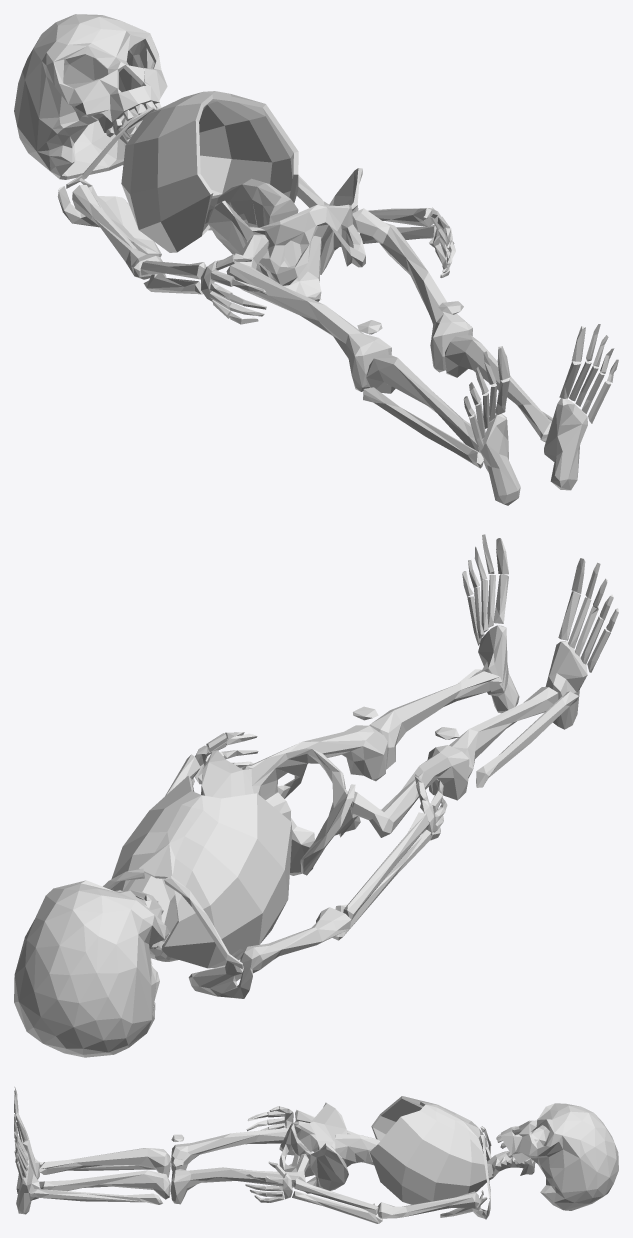
File: HWN20_Skeleton.glb
3 views of the same model, one above another, from view 1: azimuth 30°, elevation 25°; view 2: azimuth 150°, elevation 25°; view 3: azimuth 270°, elevation 25° (orthographic). The views are drawn at different scales.
Visible parts, largest first — view 1: HWN20_Skeleton; view 2: HWN20_Skeleton; view 3: HWN20_Skeleton.
Part boxes in pixels (box(x1,y1,x2,y2)): HWN20_Skeleton: box(14, 14, 618, 505); HWN20_Skeleton: box(14, 534, 618, 1057); HWN20_Skeleton: box(14, 1086, 618, 1223).
Size of what is drawn, in the model's own units: 0.5532 by 0.3621 by 1.92.
Materials: 1 (1 with a texture image).
